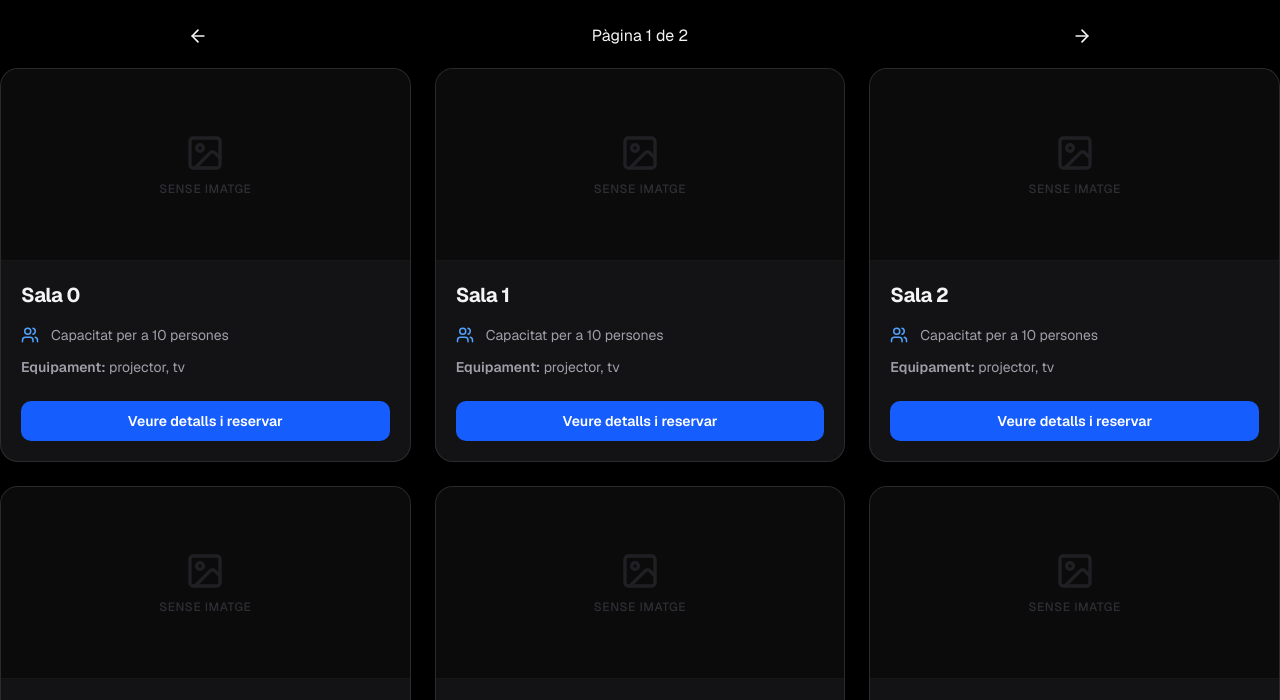
Component RoomList › ha de canviar de pàgina en clicar les fletxes
This screenshot has width=1280, height=700.
Expected: the text "Pàgina 1 de 2" is shown, [592,24,688,48]
Click the 2nd button.
click(1082, 36)  # box [1072,24,1092,48]
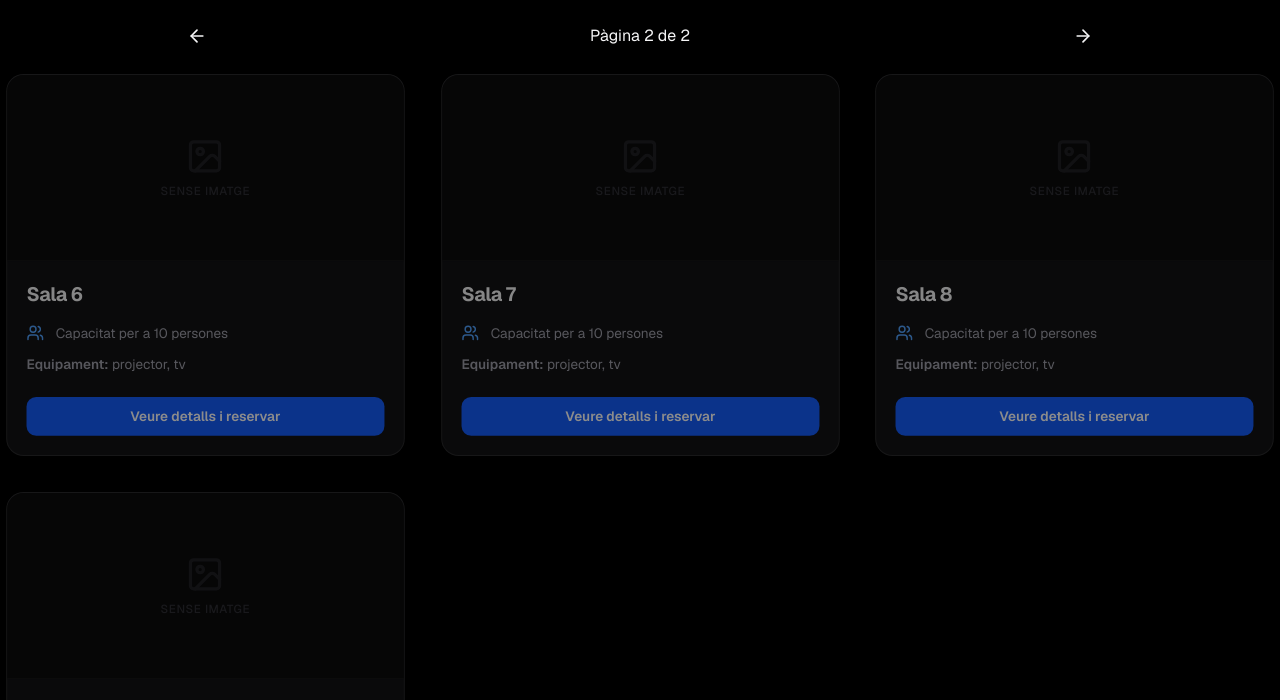
Now the text "Pàgina 2 de 2" is shown, box [590,24,690,48]
